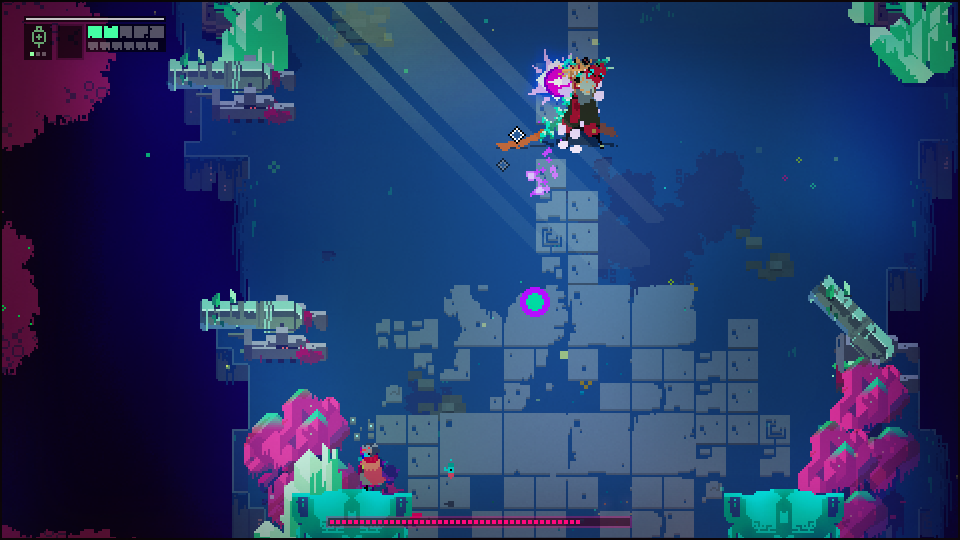hanged_man: (532, 57, 613, 153)
hanged_shot: (541, 66, 577, 100), (518, 285, 550, 319)
player: (353, 443, 383, 494)
